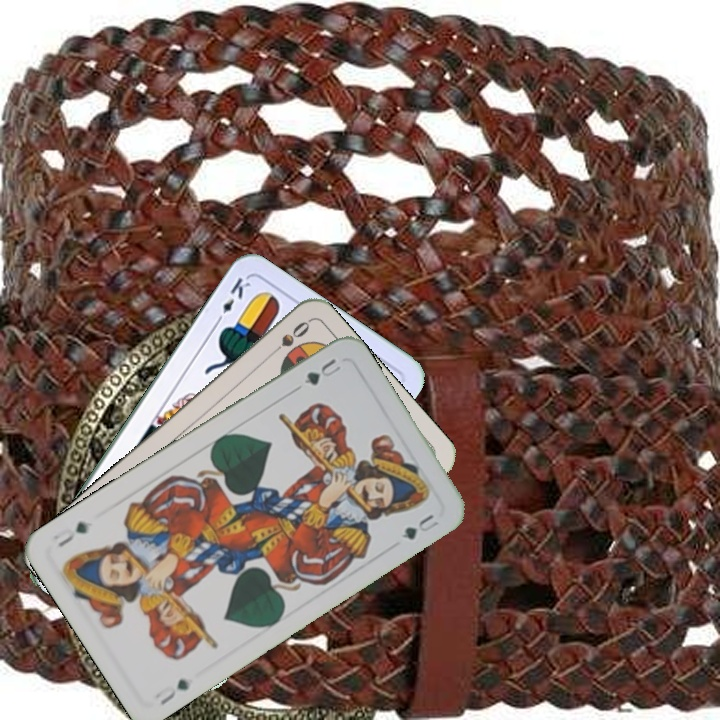EK: (211, 273, 253, 327)
GU: (300, 354, 344, 388), (156, 674, 192, 708)
SO: (263, 317, 313, 361)
